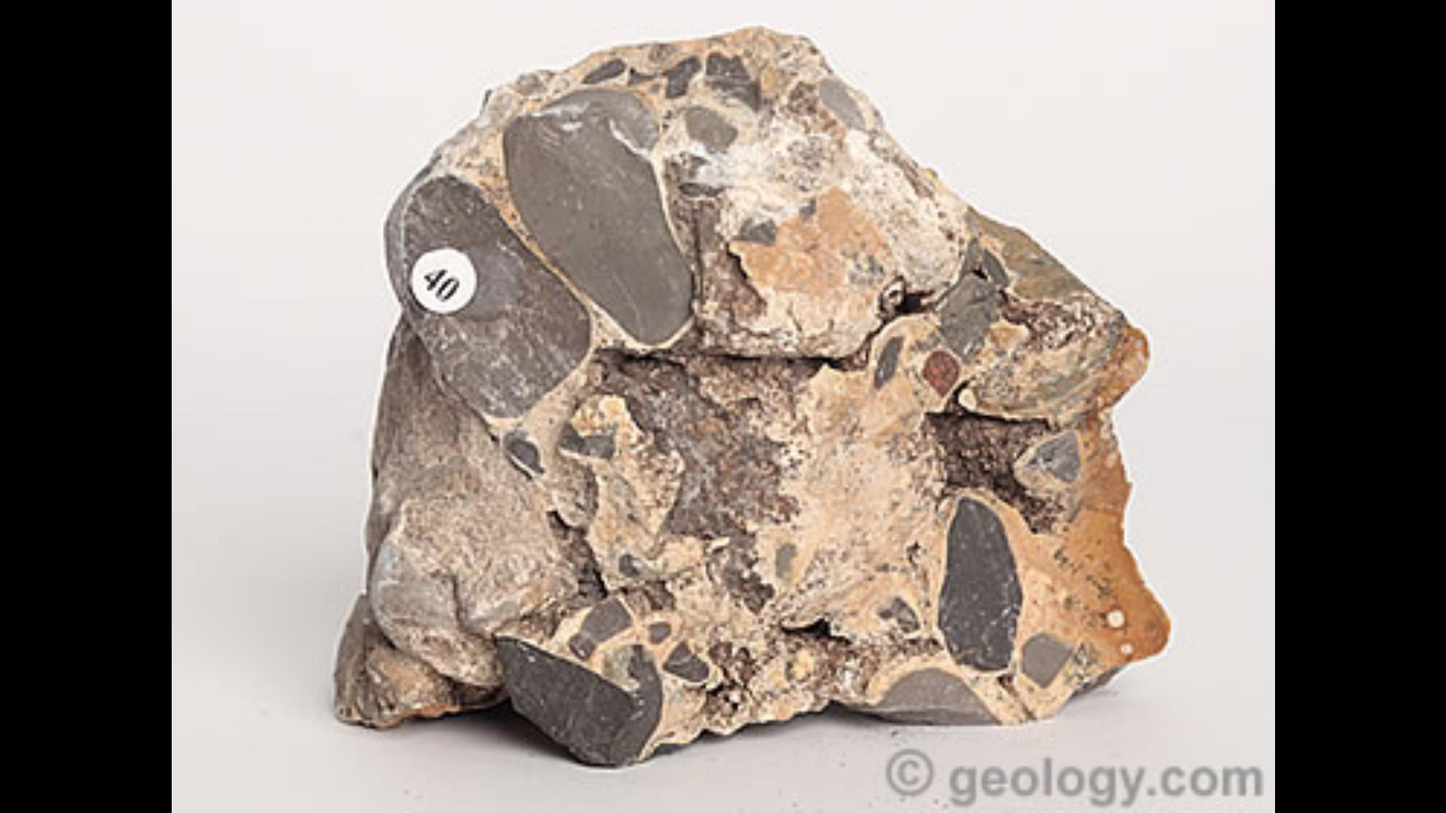rock: (337, 29, 1162, 764)
